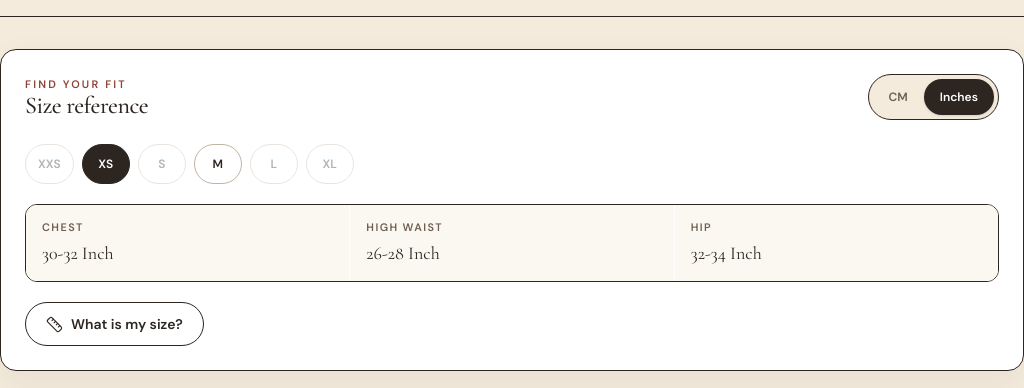
it: SizeChart › updates the compact summary without hiding the full reference
This screenshot has width=1024, height=388.
Expected: the text "30-32 Inch" is shown, x1=42 y1=242 x2=114 y2=264
Click the button "M" at (218, 164), box x1=194 y1=144 x2=242 y2=184
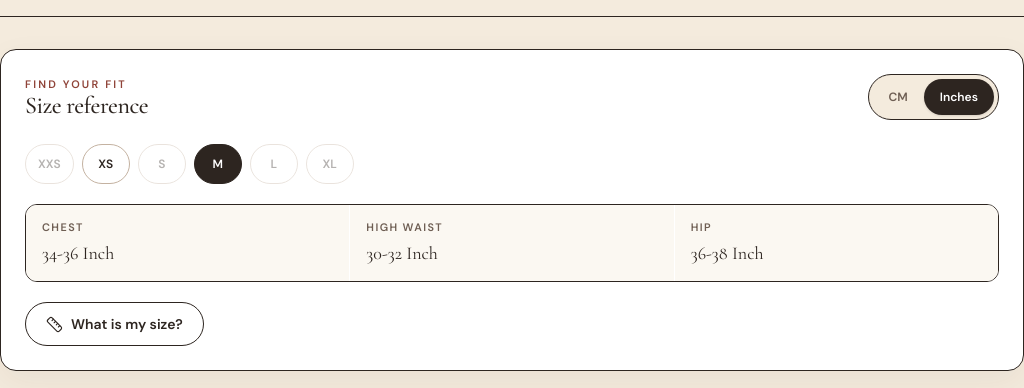
Now the text "34-36 Inch" is shown, box x1=42 y1=242 x2=114 y2=264
Click the button "CM" at (898, 97), box x1=872 y1=79 x2=924 y2=115
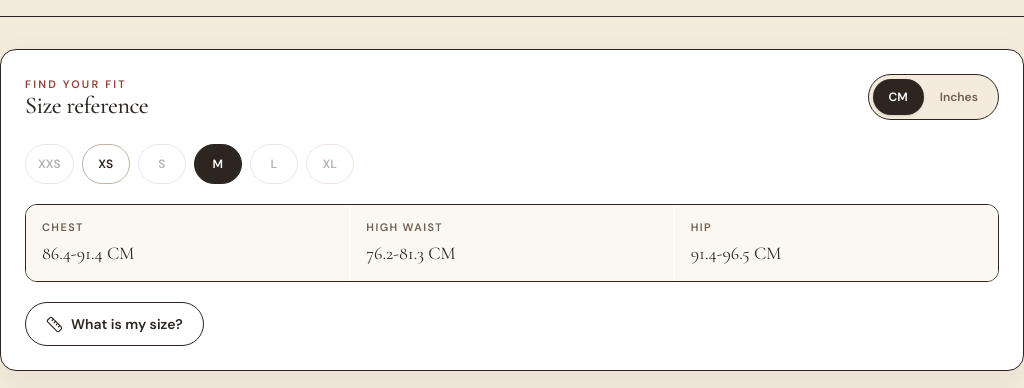
Now the text "86.4-91.4 CM" is shown, box x1=42 y1=242 x2=134 y2=264
